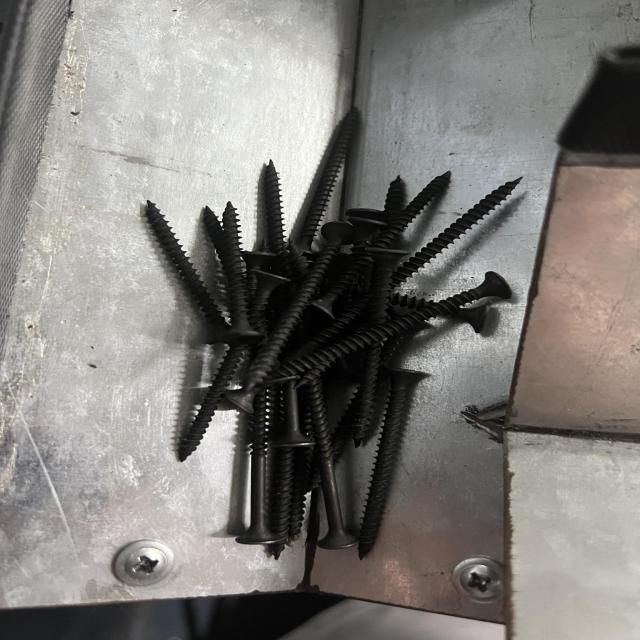screw: (196, 267, 519, 424), (364, 362, 438, 567), (144, 198, 239, 350), (253, 156, 299, 263)
